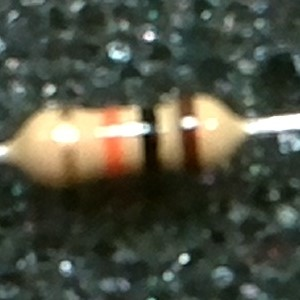black_band: (138, 105, 161, 178)
brown_band: (176, 92, 204, 179)
gold_band: (56, 104, 80, 196)
orange_band: (100, 104, 126, 183)
